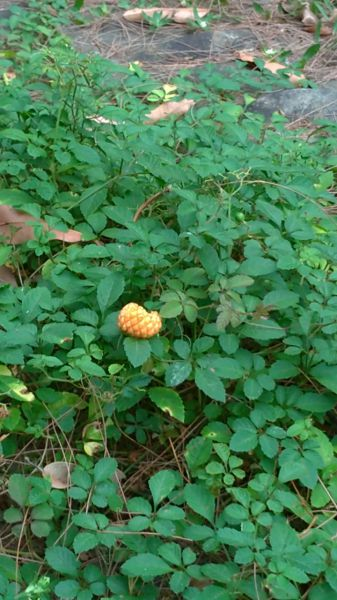eggs: (117, 301, 165, 341)
